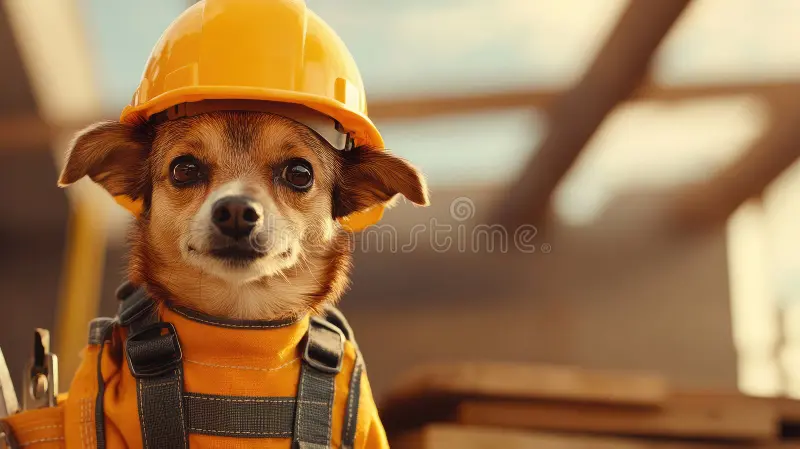Casco de seguridad: (120, 0, 383, 150)
